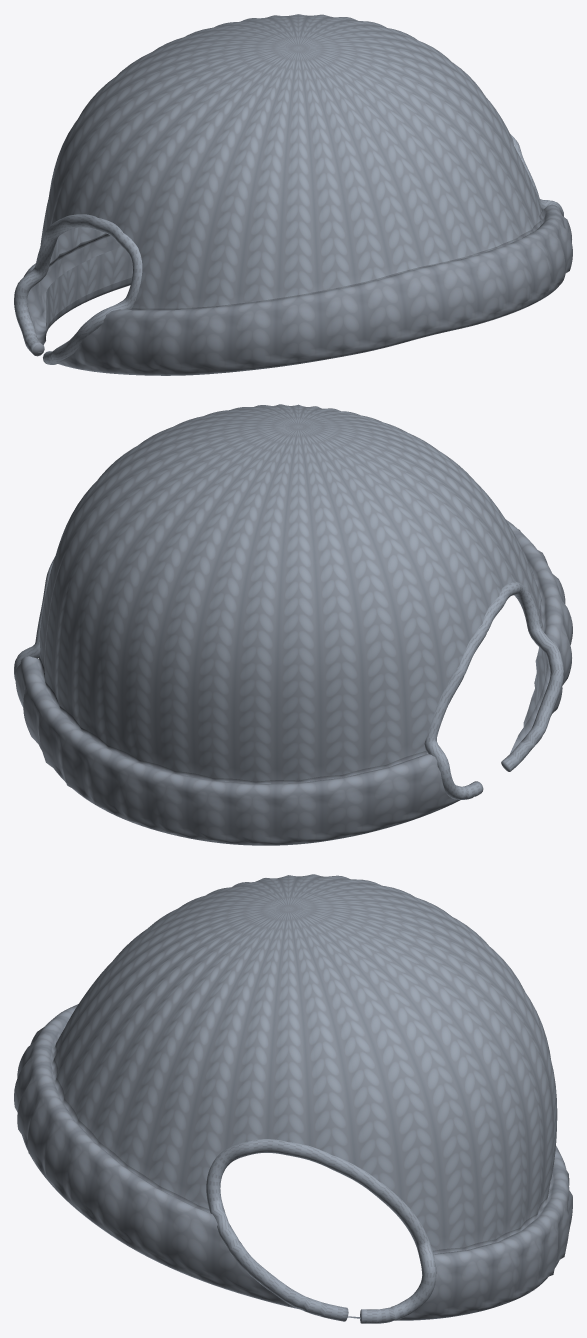
Rendered from mak_beanie_v4.glb.
3 renders of one model, top to bottom at view 1: azimuth 30°, elevation 25°; view 2: azimuth 150°, elevation 25°; view 3: azimuth 270°, elevation 25°, orthographic. The views are drawn at different scales.
Visible parts, largest first — view 1: mak_beanie_v4; view 2: mak_beanie_v4; view 3: mak_beanie_v4.
Part boxes in pixels (x1,y1,x2,y2): mak_beanie_v4: (14, 14, 572, 375); mak_beanie_v4: (14, 404, 572, 845); mak_beanie_v4: (14, 874, 572, 1323).
Size of the model in its own units: 0.5747 by 0.3548 by 0.5346.
2 materials, 2 textured.
